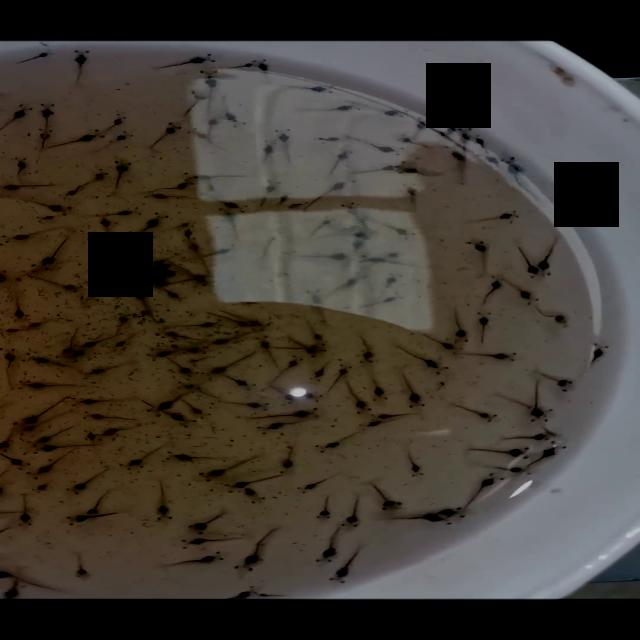shrimp2: (158, 550, 231, 572), (364, 479, 408, 515), (448, 400, 503, 424), (396, 366, 426, 409), (313, 428, 364, 453), (297, 470, 344, 496), (69, 392, 129, 412), (152, 478, 178, 524), (463, 237, 494, 274), (14, 377, 88, 392), (461, 208, 525, 225), (109, 156, 138, 193), (164, 450, 230, 466), (150, 120, 184, 151), (279, 80, 342, 96), (66, 546, 97, 578), (0, 345, 25, 383), (298, 102, 365, 116), (68, 46, 92, 84), (461, 350, 525, 364), (404, 442, 428, 479), (474, 309, 497, 345), (314, 490, 339, 521), (398, 183, 423, 210)
